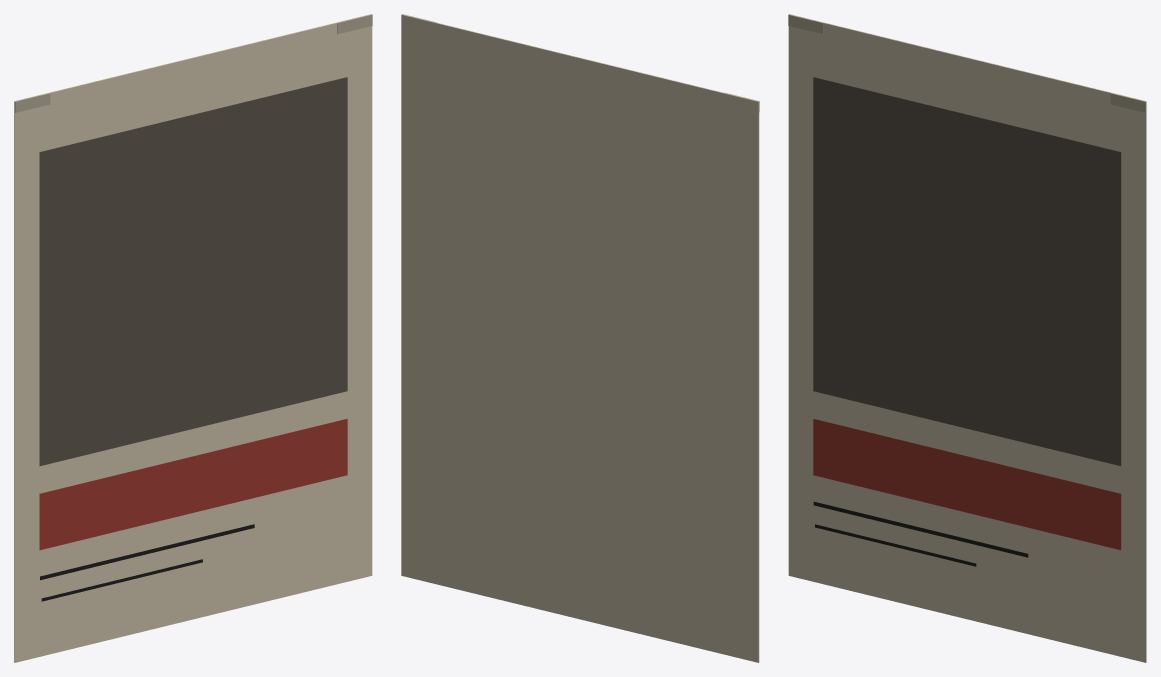
The model's file is poster-print-2x3.glb.
The picture shows the model from 3 angles, left to right: view 1: azimuth 30°, elevation 25°; view 2: azimuth 150°, elevation 25°; view 3: azimuth 330°, elevation 25°; orthographic projection.
Visible parts, largest first — view 1: fabric, paper, accent-warm, rubber, plastic-light; view 2: paper; view 3: fabric, paper, accent-warm, rubber, plastic-light.
Part boxes in pixels (bbox=[...]): fabric: bbox=[39, 77, 347, 465]; paper: bbox=[14, 14, 372, 662]; accent-warm: bbox=[39, 418, 347, 550]; rubber: bbox=[40, 524, 254, 601]; plastic-light: bbox=[15, 14, 372, 112]; paper: bbox=[401, 14, 759, 662]; fabric: bbox=[813, 77, 1121, 465]; paper: bbox=[788, 14, 1146, 662]; accent-warm: bbox=[813, 418, 1121, 550]; rubber: bbox=[813, 501, 1028, 566]; plastic-light: bbox=[788, 14, 1145, 112].
Bounding box in the file's own units: 0.61 × 0.915 × 0.003.
